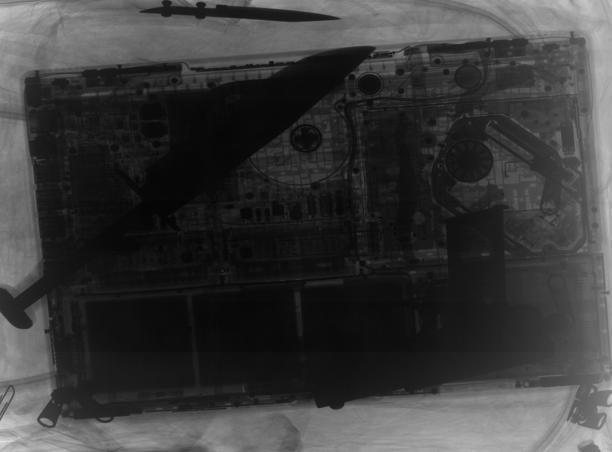Handgun: (307, 199, 557, 412)
Knife: (1, 43, 379, 331)
